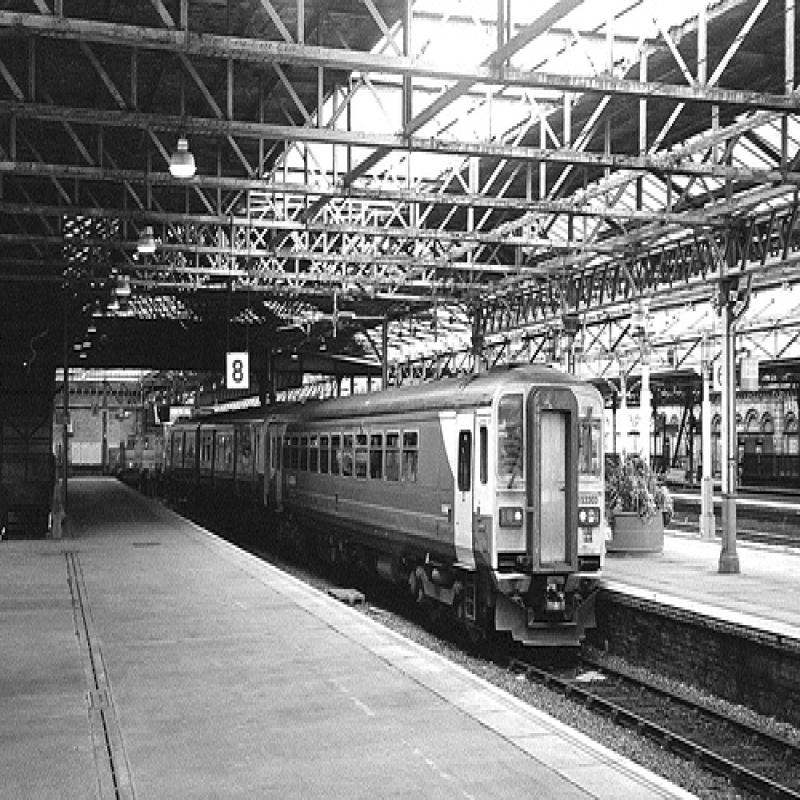train: (163, 364, 604, 652)
